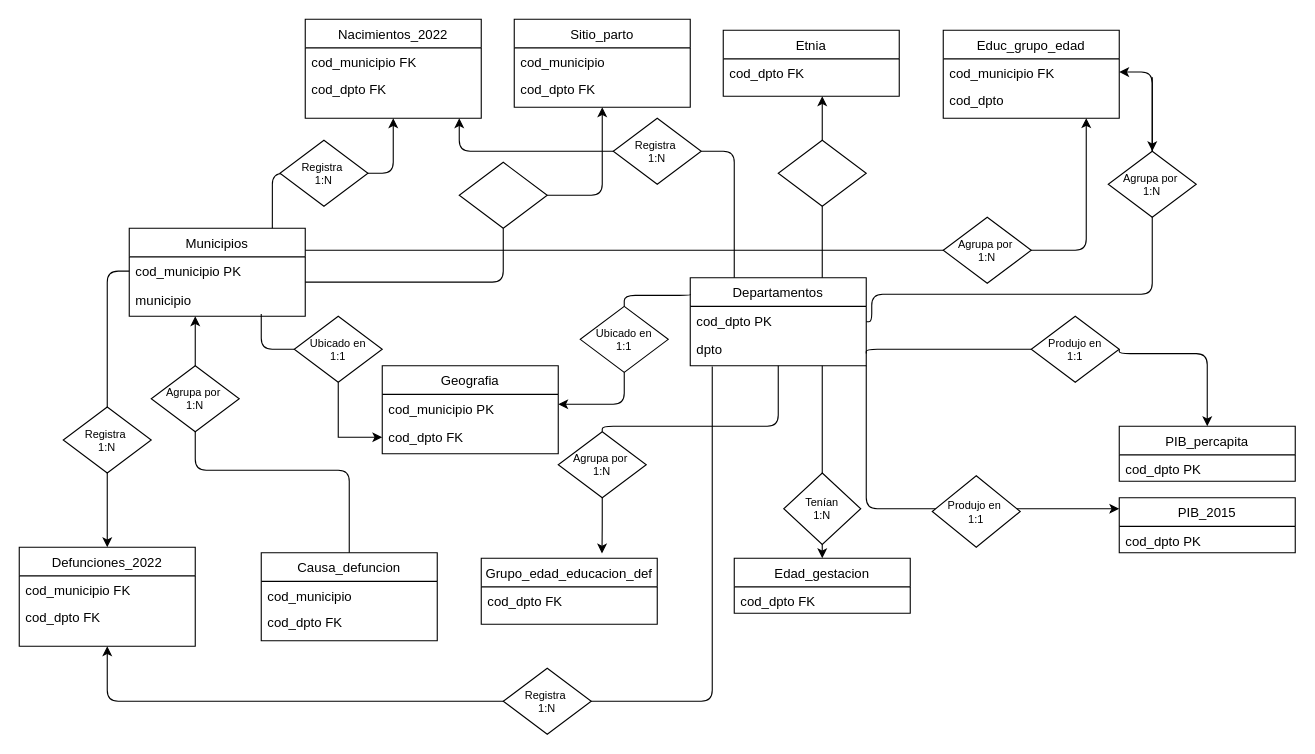
Image size: 1315x754. Some labels were removed from this diagram. Here are the shapes that lost their labels. From the top down, the centre of each, then its label:
point 821,172: Pertenece a 1:N
point 502,194: Sucedió en 1:N
